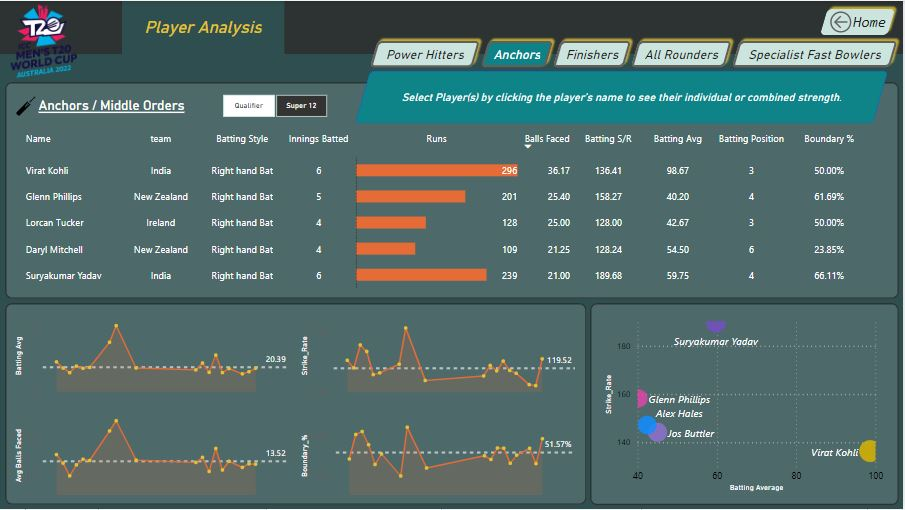

What the dashboard file says about the page in this screenshot:
{"tool":"powerbi","page":{"name":"Anchors / Middle Orders","canvas":[1280,720],"ordinal":2},"visuals":[{"type":"actionButton","box":[518,49,170,51.4],"z":0,"group":"g1"},{"type":"shape","title":"2nd layer BG","box":[0,75.1,1280,645.1],"z":0},{"type":"group","id":"g1","title":"Sub Pages Btn Group","box":[518,49,762,51.7],"z":1000},{"type":"actionButton","box":[675.6,49.5,116.2,51.2],"z":1000,"group":"g1"},{"type":"actionButton","box":[777.7,49.5,124.9,51.2],"z":2000,"group":"g1"},{"type":"shape","title":"Shape","box":[6.5,114.6,1267.1,307.4],"z":2000},{"type":"actionButton","box":[888.4,49.5,157,51.2],"z":3000,"group":"g1"},{"type":"textbox","box":[50,131.7,226.7,38.3],"z":3000},{"type":"actionButton","box":[1031.3,49.5,248.7,51.2],"z":4000,"group":"g1"},{"type":"image","box":[17,130,38.3,36.9],"z":4000},{"type":"slicer","fields":{"Values":["dim_match_summary.stage"]},"box":[289.9,125.6,197,44.9],"z":5000},{"type":"tableEx","title":"Shortlisted candidates based on parameters","fields":{"Values":["dim_players.name","dim_players.team","dim_players.batting_style","Key_Measures.Total_Innings_Batted","Key_Measures.Total_Runs","Key_Measures.Avg_Balls_Faced","Key_Measures.Strike_rate","Key_Measures.Batting_Average","Key_Measures.Batting_position_avg","Key_Measures.Boundary_%"]},"box":[26,171,1227,241],"z":6000},{"type":"shape","box":[503.1,99.2,755.4,74.3],"z":7000},{"type":"shape","box":[554.2,122.9,203,26.9],"z":8000},{"type":"card","fields":{"Values":["Key_Measures.Batting_Average"]},"box":[792.5,104.2,99,64.2],"z":9000},{"type":"card","fields":{"Values":["Key_Measures.Strike_rate"]},"box":[891.8,104.3,99,64],"z":10000},{"type":"card","fields":{"Values":["Key_Measures.Boundary_%"]},"box":[1112,103.8,100,65],"z":11000},{"type":"card","fields":{"Values":["Key_Measures.Avg_balls_faced"]},"box":[990.8,103.8,121,65],"z":12000},{"type":"shape","title":"Shape","box":[555.6,123.6,650.6,25.5],"z":13000},{"type":"shape","box":[836.3,428.4,437.7,286.6],"z":14000},{"type":"scatterChart","fields":{"Category":["dim_players.name"],"X":["Key_Measures.Batting_Average"],"Y":["Key_Measures.Strike_rate"],"Series":["dim_players.name"],"Size":["Key_Measures.Total_Runs"]},"box":[852,441,405,259],"z":15000},{"type":"shape","box":[6.8,428.4,824.3,286],"z":16000},{"type":"areaChart","fields":{"Y":["Key_Measures.Batting_Average"],"Category":["dim_match_summary.Match Date.Variation.Date Hierarchy.Day"]},"box":[15.4,438,399.4,129.7],"z":17000},{"type":"areaChart","fields":{"Y":["Key_Measures.Avg_Balls_Faced"],"Category":["dim_match_summary.Match Date.Variation.Date Hierarchy.Day"]},"box":[15.4,575,399.4,129.7],"z":18000},{"type":"areaChart","fields":{"Y":["Key_Measures.Boundary_%"],"Category":["dim_match_summary.Match Date.Variation.Date Hierarchy.Day"]},"box":[421,575,399.4,129.7],"z":19000},{"type":"areaChart","fields":{"Category":["dim_match_summary.Match Date.Variation.Date Hierarchy.Day"],"Y":["Key_Measures.Strike_Rate"]},"box":[421,438,399.4,129.7],"z":20000},{"type":"image","box":[0,0,123,114],"z":21000},{"type":"actionButton","box":[172.9,0,230,75.7],"z":22000},{"type":"actionButton","box":[1155.1,4.3,120.5,51],"z":23000}]}

Visuals, with their boxes in screenshot pixels (x1, y1, x2, y2), scaled from the page's 1280x720 canvas onto the 905x510 screenshot:
actionButton: region(366, 35, 486, 71)
"2nd layer BG" shape: region(0, 53, 904, 509)
"Sub Pages Btn Group" group: region(366, 35, 904, 71)
actionButton: region(478, 35, 560, 71)
actionButton: region(550, 35, 638, 71)
"Shape" shape: region(5, 81, 900, 299)
actionButton: region(628, 35, 739, 71)
textbox: region(35, 93, 196, 120)
actionButton: region(729, 35, 904, 71)
image: region(12, 92, 39, 118)
slicer - dim_match_summary.stage: region(205, 89, 344, 121)
"Shortlisted candidates based on parameters" tableEx: region(18, 121, 886, 292)
shape: region(356, 70, 890, 123)
shape: region(392, 87, 535, 106)
card - Key_Measures.Batting_Average: region(560, 74, 630, 119)
card - Key_Measures.Strike_rate: region(631, 74, 701, 119)
card - Key_Measures.Boundary_%: region(786, 74, 857, 120)
card - Key_Measures.Avg_balls_faced: region(701, 74, 786, 120)
"Shape" shape: region(393, 88, 853, 106)
shape: region(591, 303, 901, 506)
scatterChart - dim_players.name x Key_Measures.Batting_Average: region(602, 312, 889, 496)
shape: region(5, 303, 588, 506)
areaChart - Key_Measures.Batting_Average x dim_match_summary.Match Date.Variation.Date Hierarchy.Day: region(11, 310, 293, 402)
areaChart - Key_Measures.Avg_Balls_Faced x dim_match_summary.Match Date.Variation.Date Hierarchy.Day: region(11, 407, 293, 499)
areaChart - Key_Measures.Boundary_% x dim_match_summary.Match Date.Variation.Date Hierarchy.Day: region(298, 407, 580, 499)
areaChart - dim_match_summary.Match Date.Variation.Date Hierarchy.Day x Key_Measures.Strike_Rate: region(298, 310, 580, 402)
image: region(0, 0, 87, 81)
actionButton: region(122, 0, 285, 54)
actionButton: region(817, 3, 902, 39)
